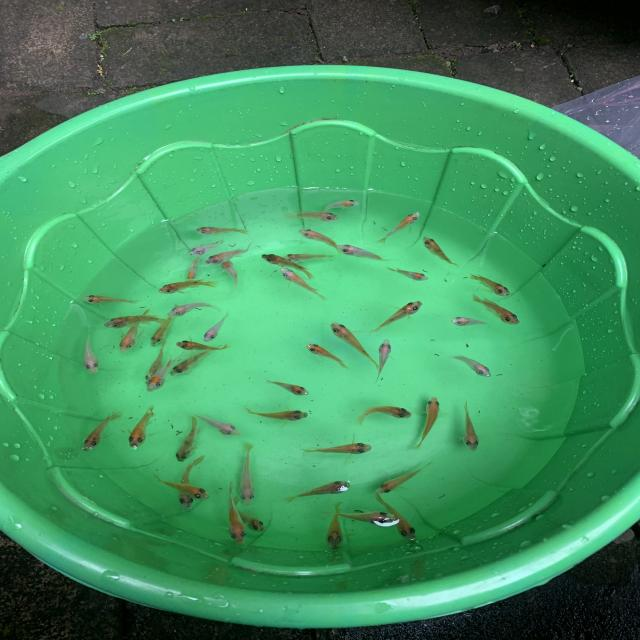nila: (326, 320, 383, 371), (372, 490, 422, 546), (170, 453, 210, 513), (219, 479, 255, 545), (374, 459, 438, 495), (276, 266, 330, 306), (147, 472, 218, 502), (169, 343, 225, 380), (137, 334, 174, 390), (140, 351, 187, 395), (410, 394, 443, 452), (122, 405, 160, 455), (184, 409, 248, 438), (81, 410, 124, 453), (370, 300, 424, 334), (261, 252, 322, 282), (467, 294, 522, 327), (234, 441, 261, 508), (152, 276, 226, 300), (279, 480, 357, 502), (302, 340, 352, 374), (229, 493, 272, 532), (199, 239, 258, 267), (375, 210, 422, 245), (147, 303, 185, 346), (114, 312, 150, 356), (172, 413, 203, 463), (455, 400, 483, 455), (82, 322, 110, 377), (99, 311, 180, 330), (320, 499, 348, 553), (418, 234, 461, 269), (293, 228, 348, 255), (323, 508, 403, 526), (297, 440, 384, 456), (239, 404, 308, 424), (466, 270, 514, 298), (443, 352, 493, 378), (356, 404, 415, 426), (200, 309, 235, 346), (333, 242, 396, 262), (168, 299, 228, 319), (370, 337, 395, 384), (262, 376, 312, 399), (218, 256, 248, 294), (191, 223, 256, 239), (184, 236, 227, 259), (171, 337, 232, 353), (285, 208, 345, 224), (277, 250, 340, 265), (181, 248, 207, 283), (384, 264, 430, 283), (78, 293, 144, 306), (319, 197, 363, 214), (450, 313, 490, 331)
